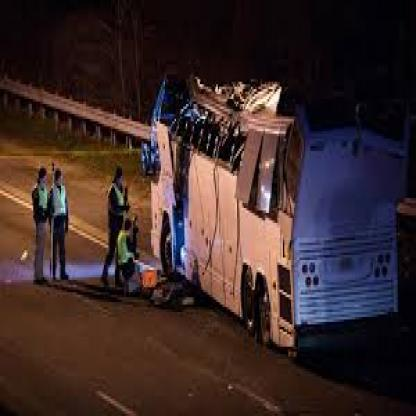accident: (143, 64, 412, 360)
